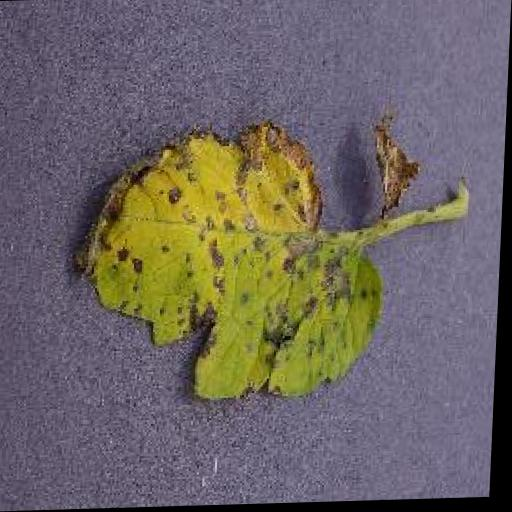Septoria: (74, 118, 396, 405)
